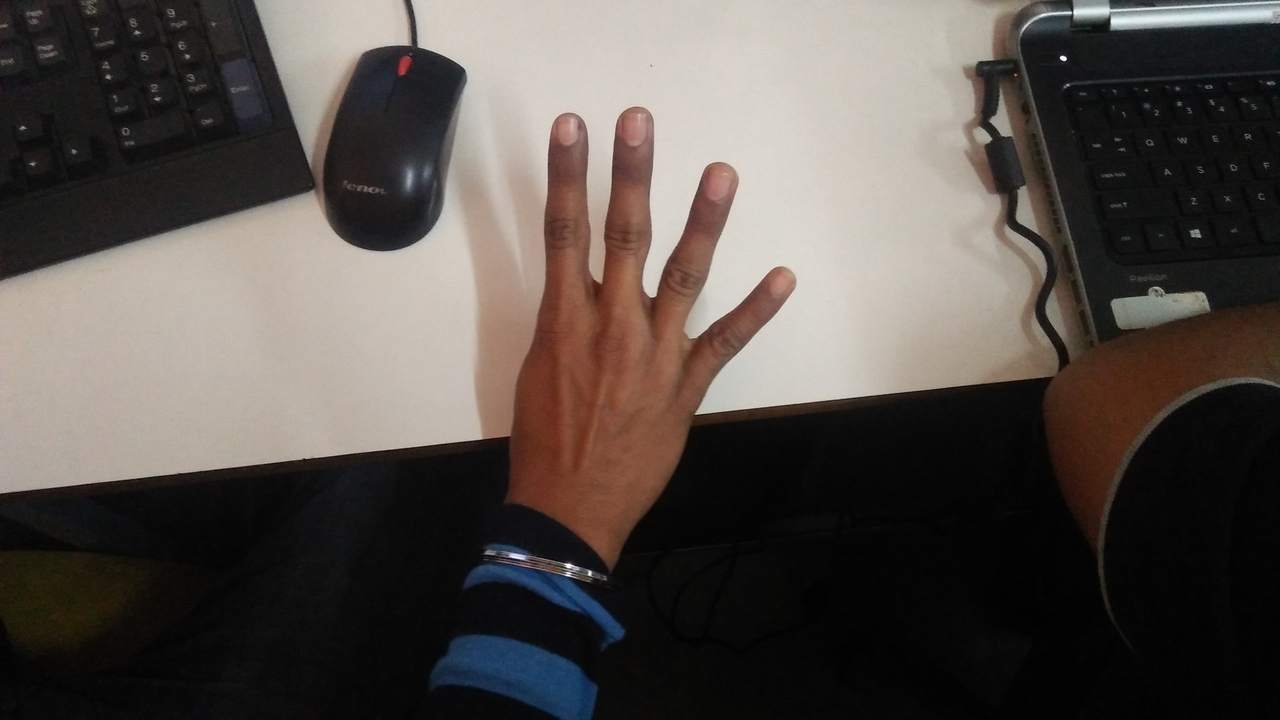fingertip: (686, 152, 750, 204), (744, 254, 808, 304), (540, 108, 598, 158), (606, 100, 662, 150)
